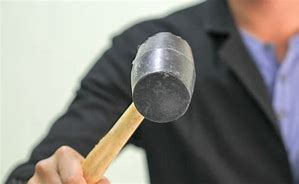hammer: (28, 30, 198, 184)
